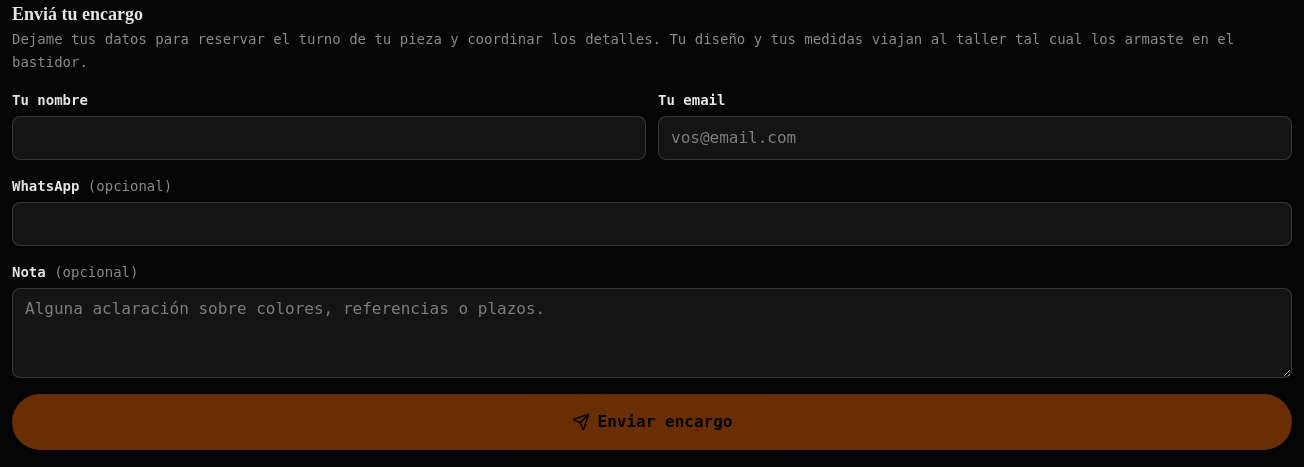
Scenario: OrderForm: el pago aparece solo después de enviar › con transferencia elegida no ofrece el pago con tarjeta ni después de enviar
Type "Clienta" into the field labelled "Tu nombre" at (329, 138), box [12, 116, 646, 160]
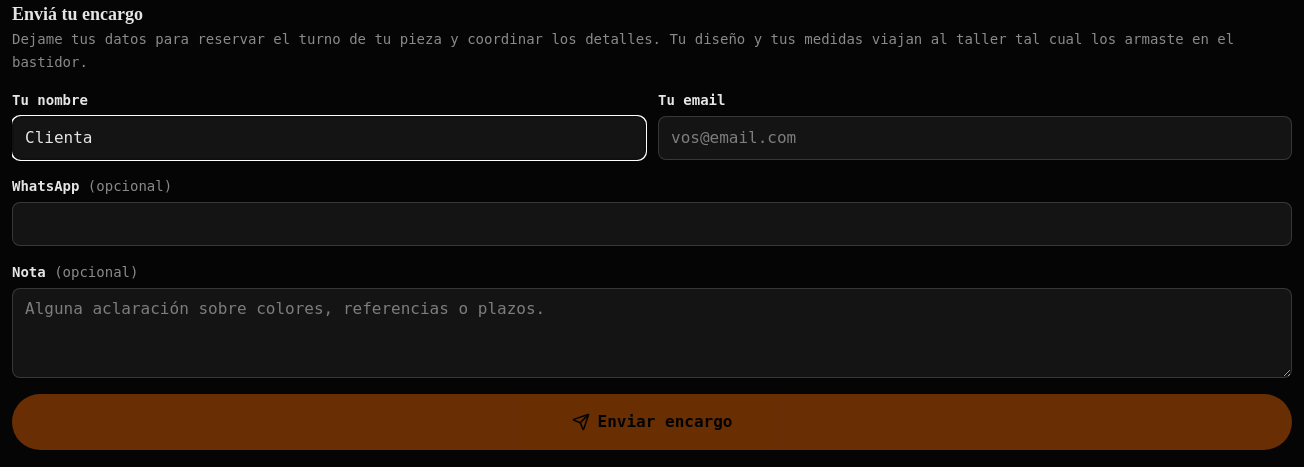
Type "clienta@example.com" into the field labelled "Tu email" at (975, 138), box [658, 116, 1292, 160]
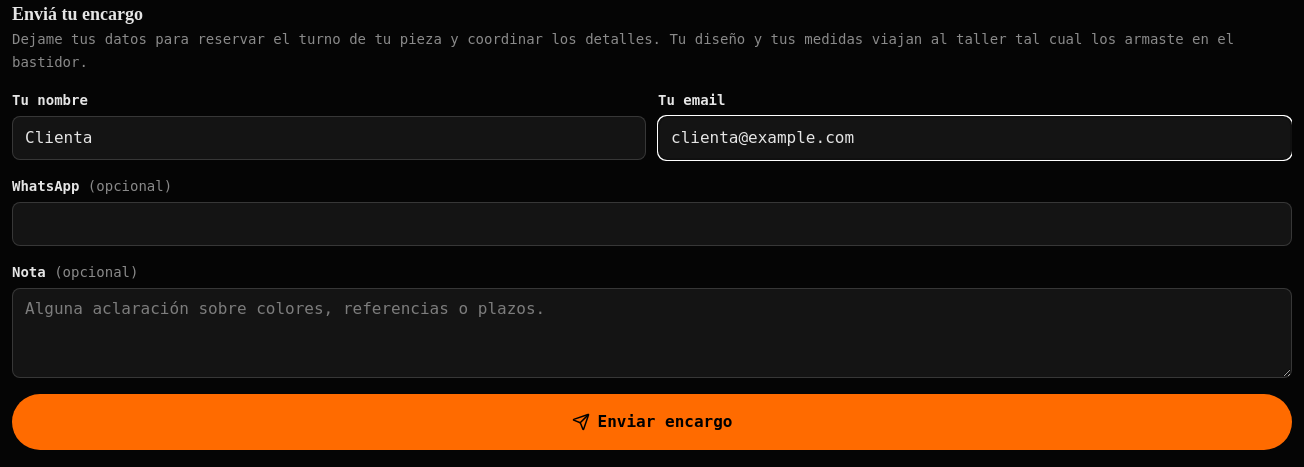
Click the button "Enviar encargo" at (652, 422), box [12, 394, 1292, 450]
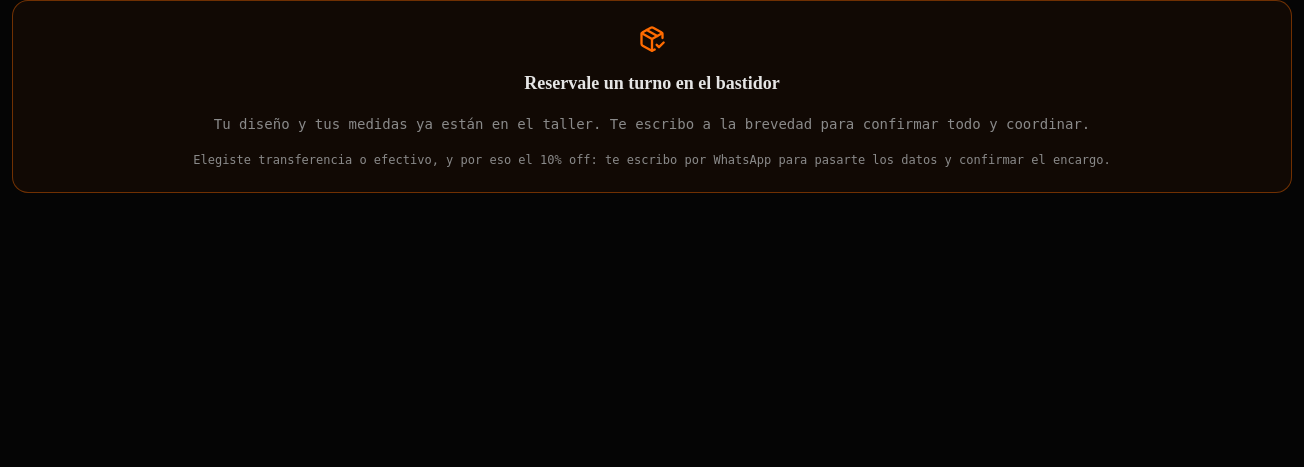
Check: the text "Reservale un turno en el bastidor" is shown, box [524, 69, 780, 97]
Check: the text "te escribo por WhatsApp" is shown, box [193, 153, 1111, 167]
